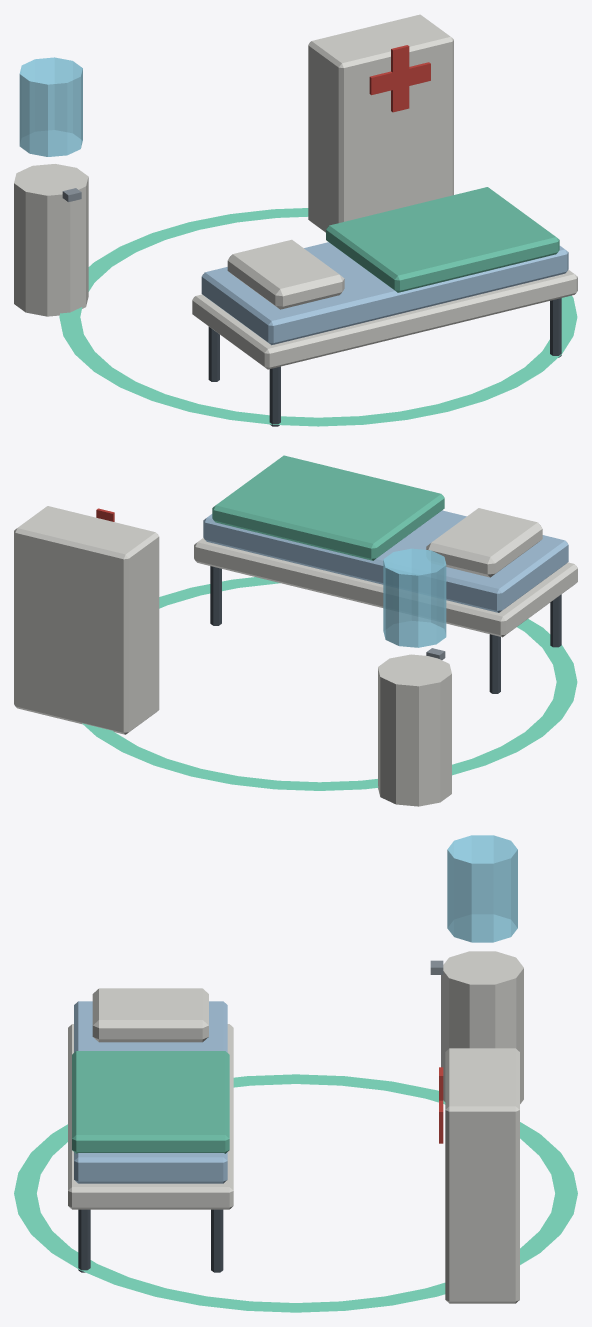
Rendered from spring.fbx.
3 views of the same model, one above another, from view 1: azimuth 30°, elevation 25°; view 2: azimuth 150°, elevation 25°; view 3: azimuth 270°, elevation 25° (orthographic). The views are drawn at different scales.
Visible parts, largest first — view 1: spring; view 2: spring; view 3: spring.
Boxes of the visible parts, left/top/right/bottom form: spring: left=14, top=14, right=577, bottom=426; spring: left=14, top=455, right=577, bottom=806; spring: left=14, top=835, right=577, bottom=1312.
Bounding box in the file's own units: 2.72 × 1.33 × 2.72.
